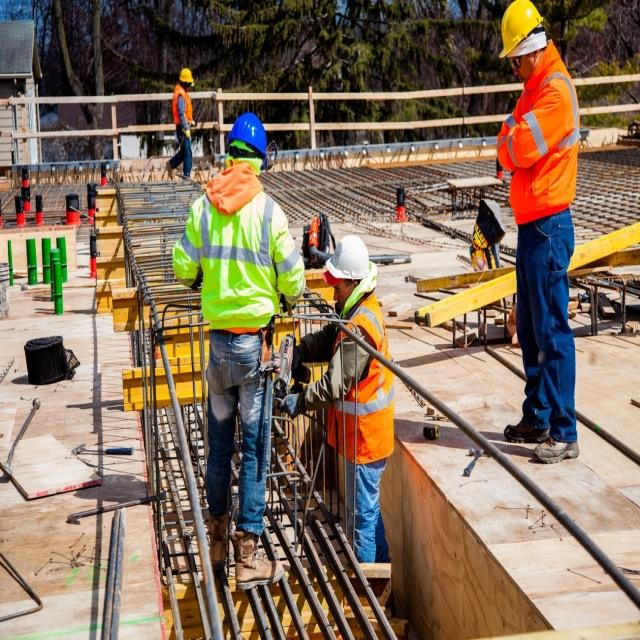helmet: (496, 3, 548, 105), (321, 312, 372, 413), (225, 150, 272, 242), (178, 85, 194, 123)
vest: (179, 240, 290, 443), (500, 97, 581, 300), (329, 403, 395, 616), (170, 117, 194, 167)
